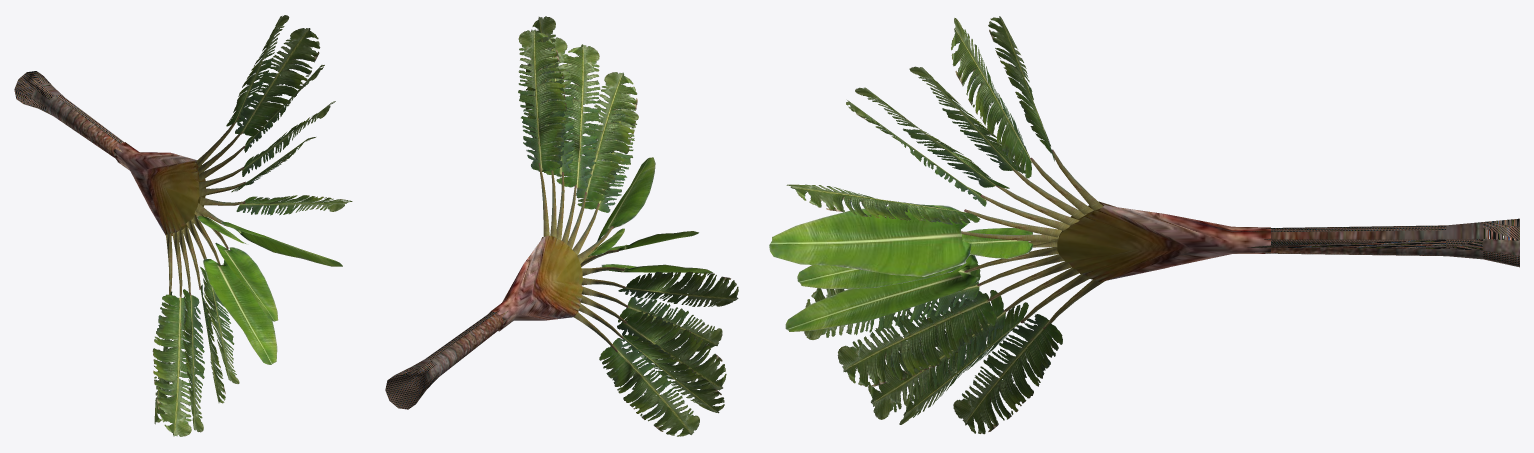
The model's file is banana.obj.
3 views of the same model, side by side, from view 1: azimuth 30°, elevation 25°; view 2: azimuth 150°, elevation 25°; view 3: azimuth 270°, elevation 25° (orthographic). The views are drawn at different scales.
Visible parts, largest first — view 1: BANANA_PALM_Mesh1_travelersBase_h, BANANA_PALM.002_Mesh1_travelersBa.001; view 2: BANANA_PALM_Mesh1_travelersBase_h, BANANA_PALM.002_Mesh1_travelersBa.001; view 3: BANANA_PALM_Mesh1_travelersBase_h, BANANA_PALM.002_Mesh1_travelersBa.001.
Part boxes in pixels (x1=…): BANANA_PALM_Mesh1_travelersBase_h: x1=14, y1=15, x2=352, y2=436; BANANA_PALM.002_Mesh1_travelersBa.001: x1=113, y1=142, x2=205, y2=235; BANANA_PALM_Mesh1_travelersBase_h: x1=385, y1=16, x2=738, y2=436; BANANA_PALM.002_Mesh1_travelersBa.001: x1=488, y1=235, x2=582, y2=331; BANANA_PALM_Mesh1_travelersBase_h: x1=769, y1=16, x2=1519, y2=434; BANANA_PALM.002_Mesh1_travelersBa.001: x1=1057, y1=201, x2=1270, y2=282.
Bounding box in the file's own units: 3.97 × 7.97 × 10.64.
